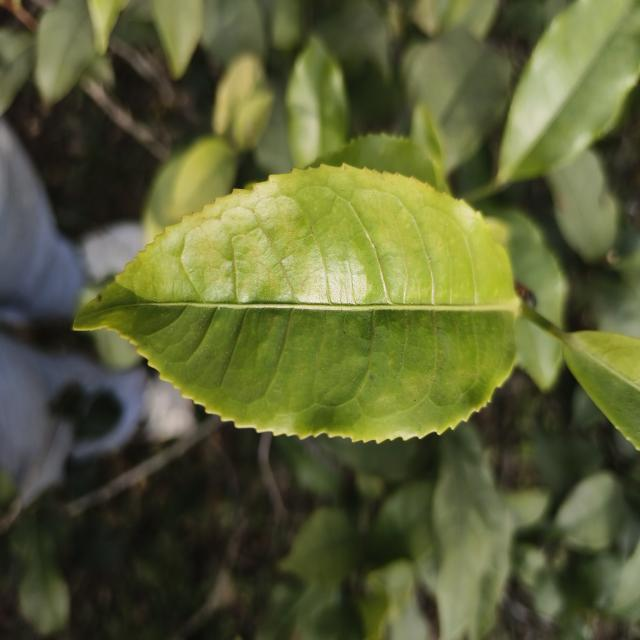Leaf: (76, 166, 519, 441), (497, 0, 640, 183), (433, 426, 512, 640), (409, 30, 511, 170), (142, 135, 237, 244), (486, 208, 568, 326), (563, 331, 640, 449), (546, 151, 619, 262), (286, 37, 348, 167), (280, 507, 360, 587), (35, 0, 96, 104), (16, 525, 70, 634), (554, 471, 625, 551), (369, 481, 434, 563), (153, 0, 203, 79), (514, 318, 562, 390)
